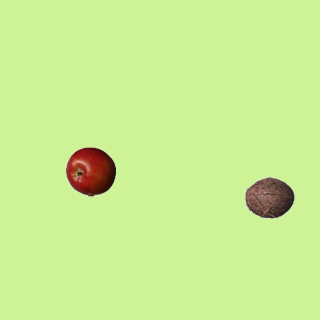Apple Braeburn: (65, 146, 115, 196)
Cocos: (244, 172, 294, 222)
